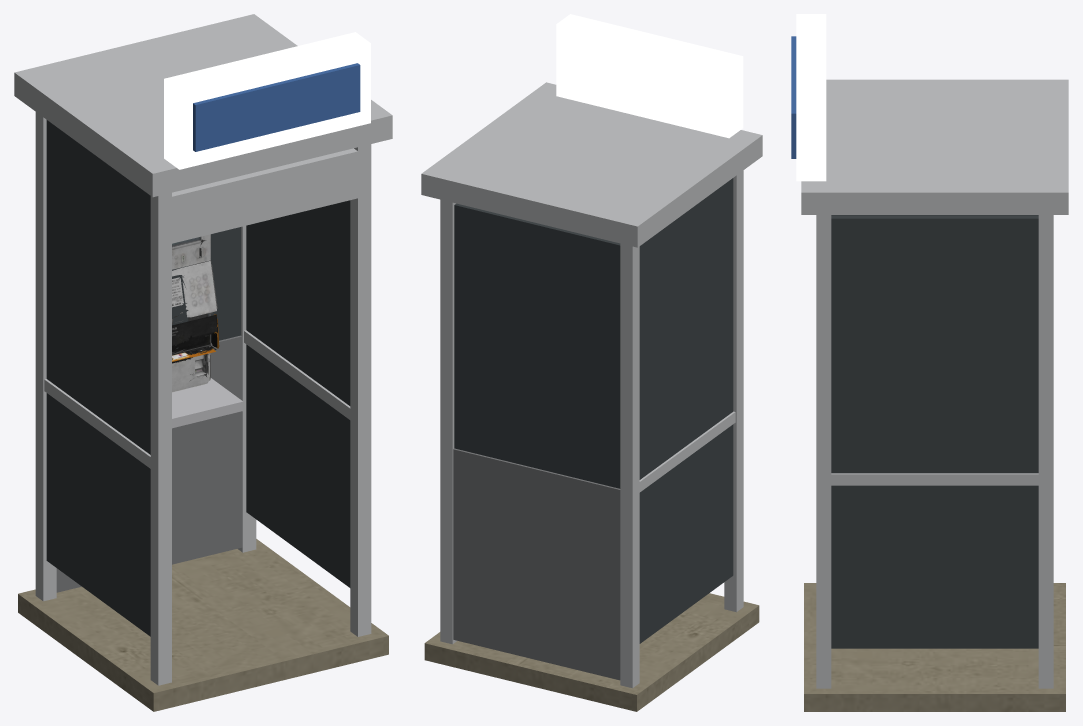
Rendered from payphone.glb.
The picture shows the model from 3 angles, left to right: view 1: azimuth 30°, elevation 25°; view 2: azimuth 150°, elevation 25°; view 3: azimuth 270°, elevation 25°; orthographic projection. The views are drawn at different scales.
Parts seen in each view (by area): view 1: payphone_booth, korean_public_payphone_01; view 2: payphone_booth; view 3: payphone_booth.
Boxes of the visible parts, x1,y1,x2,y2 form: payphone_booth: (14,14,392,711); korean_public_payphone_01: (172,234,219,392); payphone_booth: (421,14,762,711); payphone_booth: (791,14,1068,711).
Bounding box in the file's own units: 1.07 × 2.64 × 1.11.
Materials: 8 (2 with a texture image).
